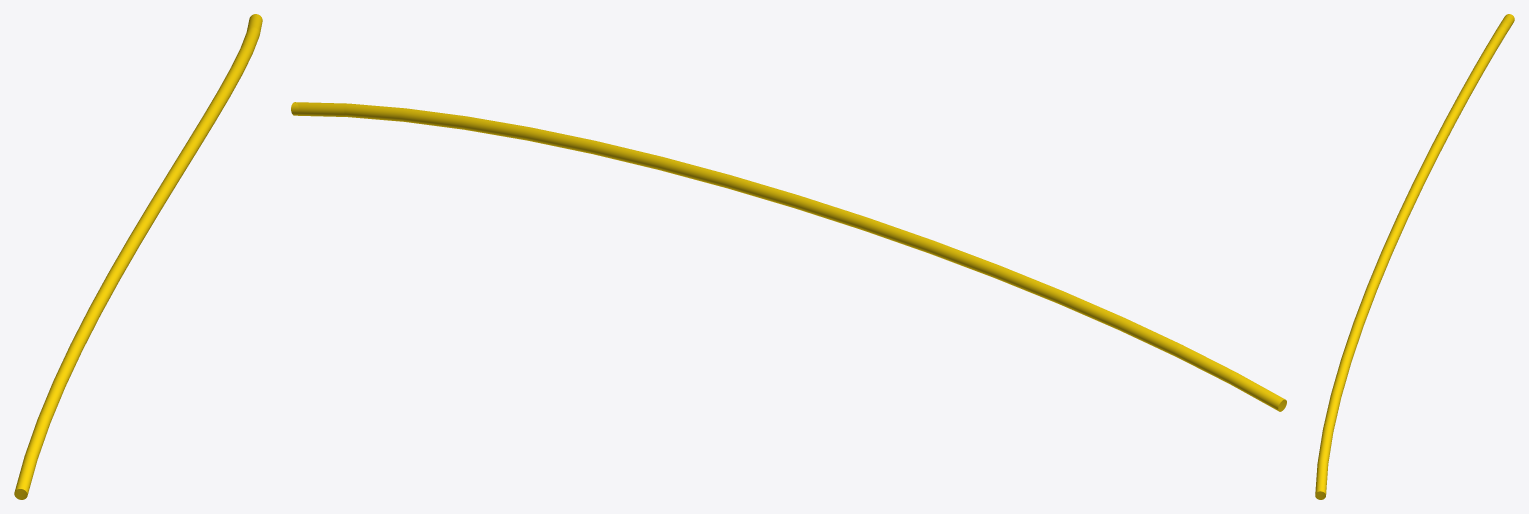
File: Event_421115418_track_165.fbx
3 renders of one model, left to right at view 1: azimuth 90°, elevation 25°; view 2: azimuth 150°, elevation 25°; view 3: azimuth 270°, elevation 25°, orthographic. The views are drawn at different scales.
Visible parts, largest first — view 1: Model; view 2: Model; view 3: Model.
Part boxes in pixels (bbox=[...]): Model: bbox=[14, 14, 262, 499]; Model: bbox=[291, 102, 1286, 411]; Model: bbox=[1315, 14, 1514, 499].
Size of the model in its own units: 3.74 by 0.3229 by 0.7341.
